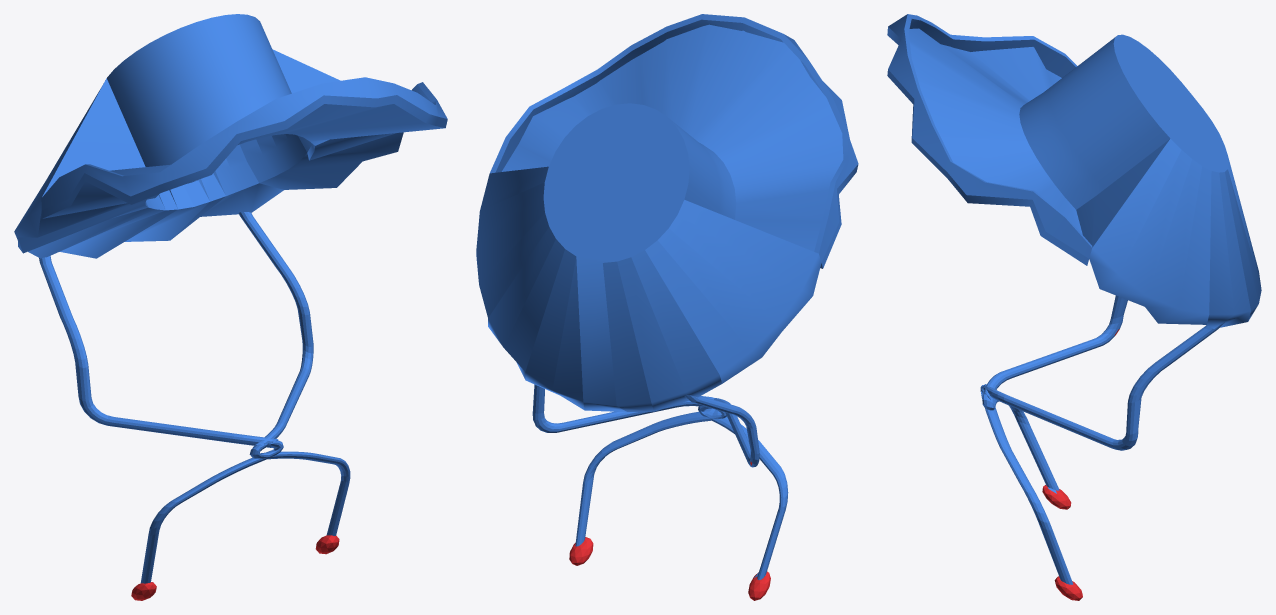
The model's file is HatMotherGoose.fbx.
The picture shows the model from 3 angles, left to right: view 1: azimuth 30°, elevation 25°; view 2: azimuth 150°, elevation 25°; view 3: azimuth 270°, elevation 25°; orthographic projection. The views are drawn at different scales.
Parts seen in each view (by area): view 1: Hat, Cord; view 2: Hat, Cord; view 3: Hat, Cord.
Boxes of the visible parts, box(x1,y1,x2,y2) form: Hat: box(14, 14, 447, 258); Cord: box(39, 212, 350, 600); Hat: box(476, 14, 858, 411); Cord: box(532, 384, 788, 600); Hat: box(887, 14, 1261, 328); Cord: box(980, 295, 1224, 600).
Bounding box in the file's own units: 212 × 308 × 198.
